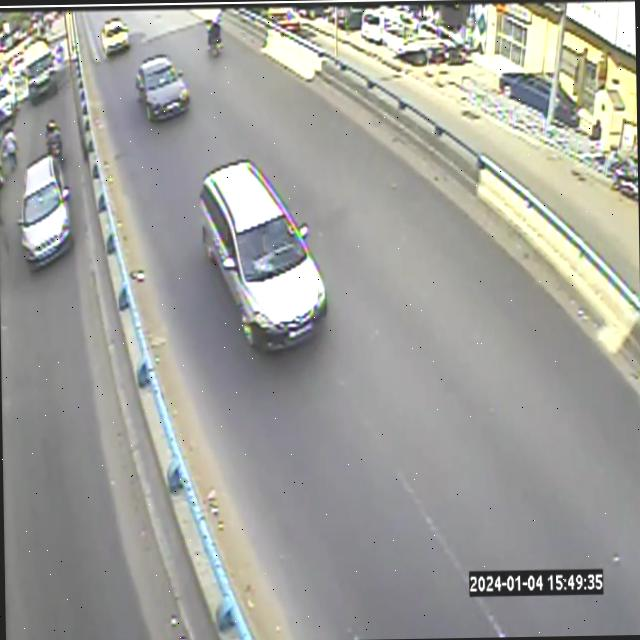car: (198, 159, 325, 350), (135, 54, 188, 120), (100, 17, 129, 57)
